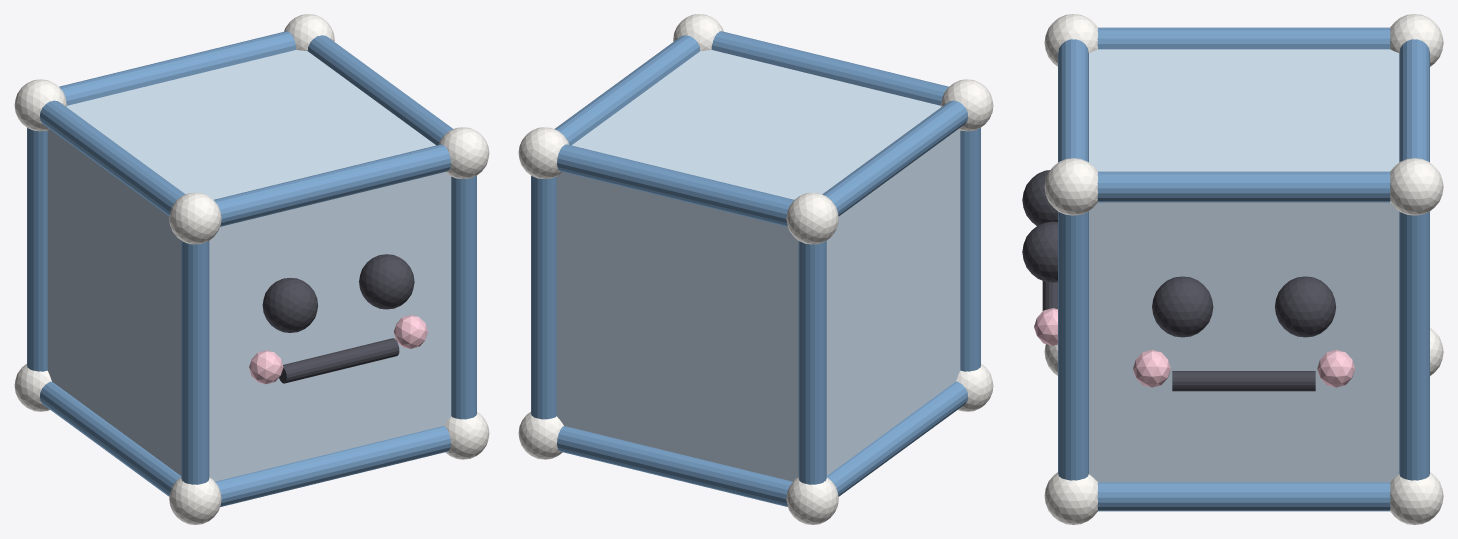
File: 6cube_cute_facets_edges_vertices.glb
3 renders of one model, left to right at view 1: azimuth 30°, elevation 25°; view 2: azimuth 150°, elevation 25°; view 3: azimuth 270°, elevation 25°, orthographic. The views are drawn at different scales.
Visible parts, largest first — view 1: CubeBody, CubeEdges, CubeVertices, CuteFaceFeatures, CuteCheeks; view 2: CubeBody, CubeEdges, CubeVertices; view 3: CubeBody, CubeEdges, CubeVertices, CuteFaceFeatures, CuteCheeks.
Boxes of the visible parts, x1,y1,x2,y2 form: CubeBody: [47, 50, 451, 481]; CubeEdges: [27, 31, 476, 506]; CubeVertices: [14, 14, 489, 524]; CuteFaceFeatures: [262, 254, 414, 383]; CuteCheeks: [249, 315, 427, 384]; CubeBody: [556, 50, 960, 481]; CubeEdges: [531, 31, 980, 506]; CubeVertices: [518, 14, 993, 524]; CubeBody: [1089, 49, 1399, 482]; CubeEdges: [1058, 27, 1429, 511]; CubeVertices: [1044, 14, 1443, 524]; CuteFaceFeatures: [1022, 170, 1335, 391]; CuteCheeks: [1034, 308, 1354, 387].
Bounding box in the file's own units: 2.47 × 2.34 × 2.47.
